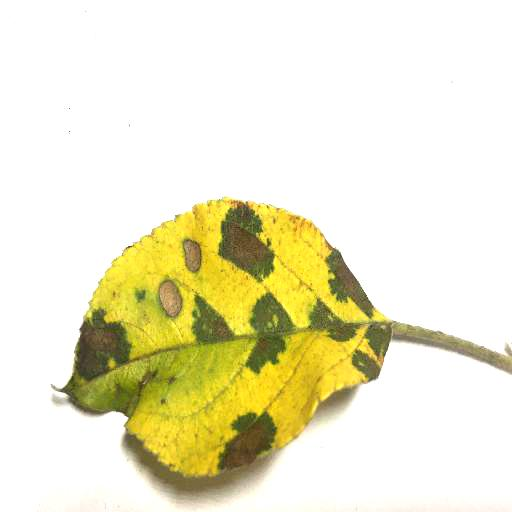Brown_Spot: (210, 218, 287, 273), (321, 265, 374, 309), (72, 331, 122, 372), (222, 424, 272, 460), (152, 283, 180, 319), (181, 239, 200, 273), (196, 317, 233, 334), (255, 339, 275, 355)
